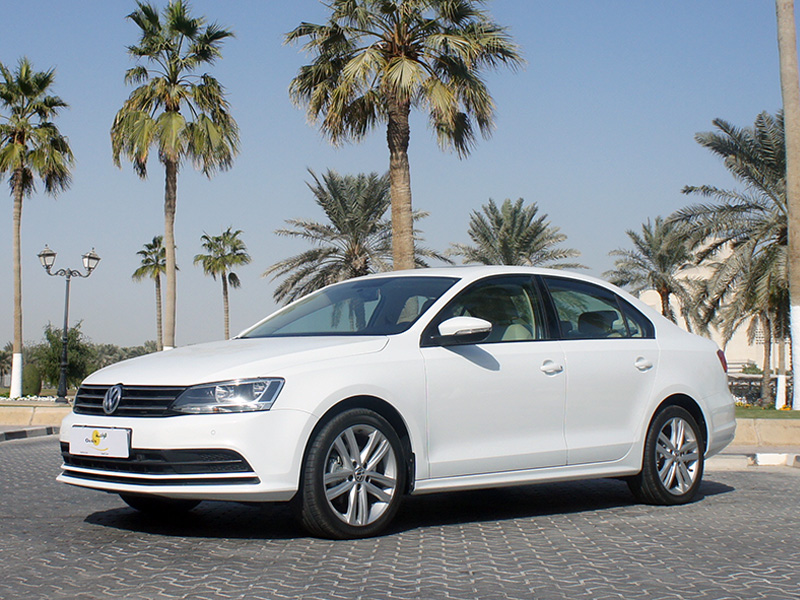other: (62, 260, 733, 538)
